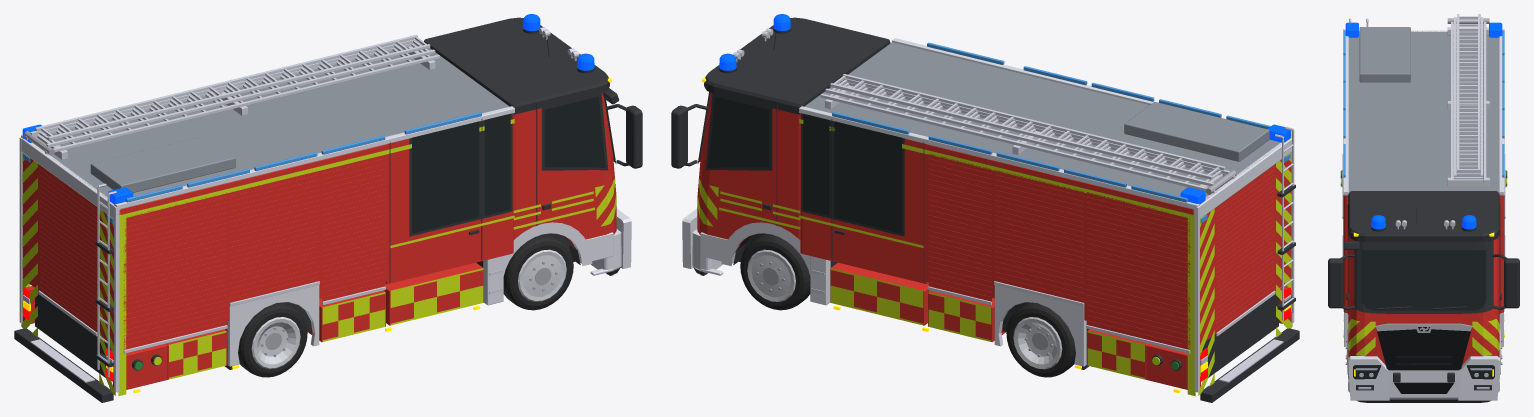
Rendered from hlf.glb.
The picture shows the model from 3 angles, left to right: view 1: azimuth 30°, elevation 25°; view 2: azimuth 150°, elevation 25°; view 3: azimuth 270°, elevation 25°; orthographic projection. The views are drawn at different scales.
Visible parts, largest first — view 1: HLF_RoofCap, HLF_Shutter_R3, HLF_Shutter_R2, HLF_CabRoof, HLF_CrewWindow, HLF_Shutter_R1, HLF_Cab, HLF_CrewCab, HLF_Shutter_Rear, HLF_Body, HLF_RoofEquipment, HLF_Checker (+34 smaller); view 2: HLF_RoofCap, HLF_Shutter_L3, HLF_Shutter_L2, HLF_CabRoof, HLF_CrewWindow, HLF_Shutter_L1, HLF_Cab, HLF_CrewCab, HLF_Shutter_Rear, HLF_Body, HLF_RoofEquipment, HLF_Checker (+34 smaller); view 3: HLF_RoofCap, HLF_Windscreen, HLF_CabRoof, HLF_Cab, HLF_Grille, HLF_RoofEquipment, HLF_WindscreenFrame, HLF_CabLower, HLF_BumperWing, HLF_BumperWing.001, HLF_FrontChevrons, HLF_CrewCab (+21 smaller).
Part boxes in pixels (x1,y1,x2,y2): HLF_RoofCap: (47, 43, 509, 197); HLF_Shutter_R3: (123, 192, 226, 349); HLF_Shutter_R2: (229, 171, 319, 302); HLF_CabRoof: (424, 17, 609, 114); HLF_CrewWindow: (412, 113, 510, 233); HLF_Shutter_R1: (322, 155, 385, 301); HLF_Cab: (513, 92, 616, 257); HLF_CrewCab: (385, 113, 513, 283); HLF_Shutter_Rear: (39, 170, 97, 332); HLF_Body: (22, 144, 387, 344); HLF_RoofEquipment: (90, 136, 235, 192); HLF_Checker: (169, 268, 483, 379); HLF_RoofCap: (804, 42, 1280, 199); HLF_Shutter_L3: (1087, 192, 1190, 349); HLF_Shutter_L2: (994, 170, 1084, 302); HLF_CabRoof: (704, 17, 890, 114); HLF_CrewWindow: (803, 113, 901, 233); HLF_Shutter_L1: (928, 153, 991, 301); HLF_Cab: (697, 92, 800, 256); HLF_CrewCab: (800, 113, 928, 283); HLF_Shutter_Rear: (1216, 170, 1274, 332); HLF_Body: (926, 144, 1291, 344); HLF_RoofEquipment: (1124, 102, 1269, 161); HLF_Checker: (830, 268, 1144, 379); HLF_RoofCap: (1344, 30, 1502, 195); HLF_Windscreen: (1361, 250, 1486, 310); HLF_CabRoof: (1348, 191, 1499, 241); HLF_Cab: (1348, 235, 1499, 365); HLF_Grille: (1376, 329, 1471, 370); HLF_RoofEquipment: (1359, 27, 1410, 82); HLF_WindscreenFrame: (1354, 240, 1493, 313); HLF_CabLower: (1348, 363, 1499, 399); HLF_BumperWing: (1458, 356, 1499, 400); HLF_BumperWing.001: (1348, 356, 1389, 400); HLF_FrontChevrons: (1348, 319, 1499, 356); HLF_CrewCab: (1343, 195, 1504, 312).
Bounding box in the file's own units: 7.84 × 3.25 × 2.92.
